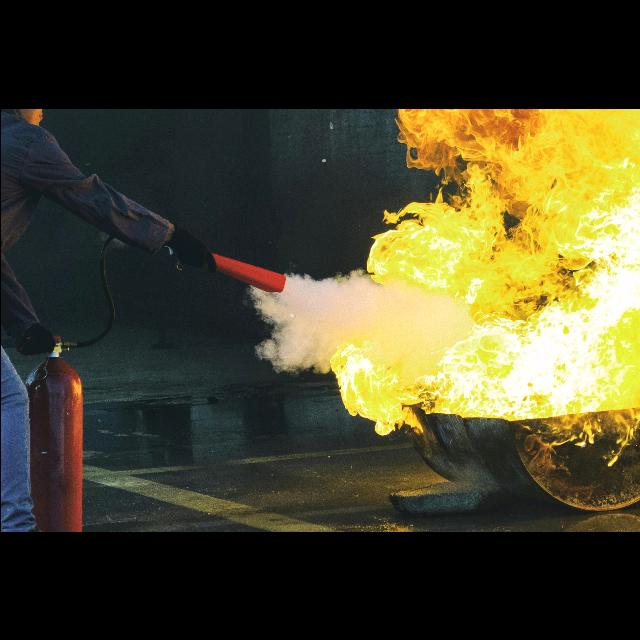fire: (460, 108, 640, 419)
smoke: (252, 269, 385, 369)
